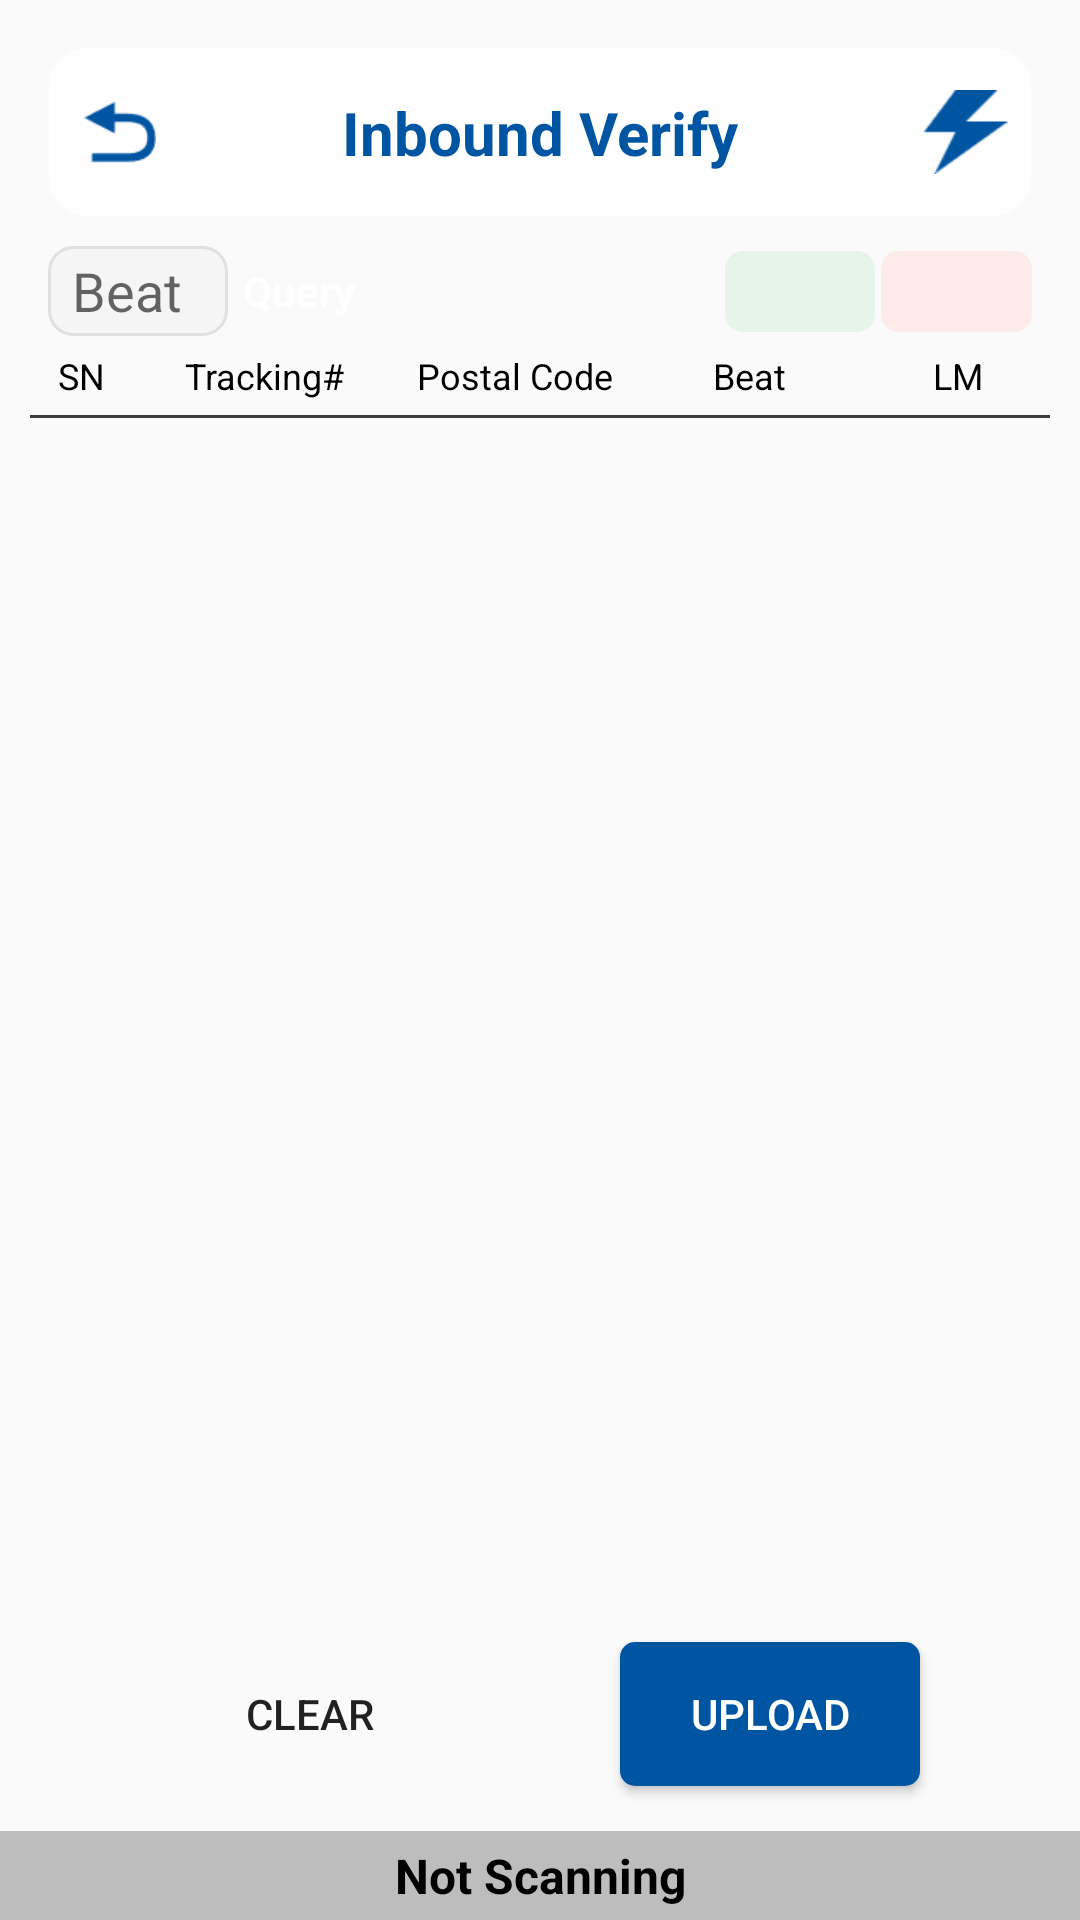

Point at icon controls on the screen. Image size 1080*1920, points as point (x, y).
back: point (120, 132)
power: point (966, 132)
